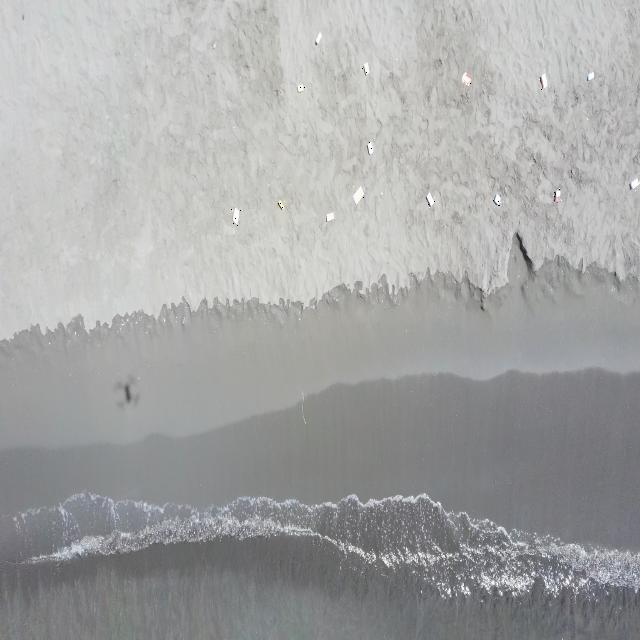Garbage: (115, 375, 139, 407), (352, 188, 363, 203), (232, 207, 240, 224), (540, 72, 547, 88), (630, 176, 639, 188), (463, 71, 471, 84), (493, 192, 500, 206), (552, 188, 559, 201), (362, 62, 368, 75), (367, 140, 372, 154), (427, 193, 432, 206), (315, 32, 320, 44), (276, 200, 283, 208), (296, 83, 303, 91), (326, 212, 333, 220), (587, 71, 593, 80)
